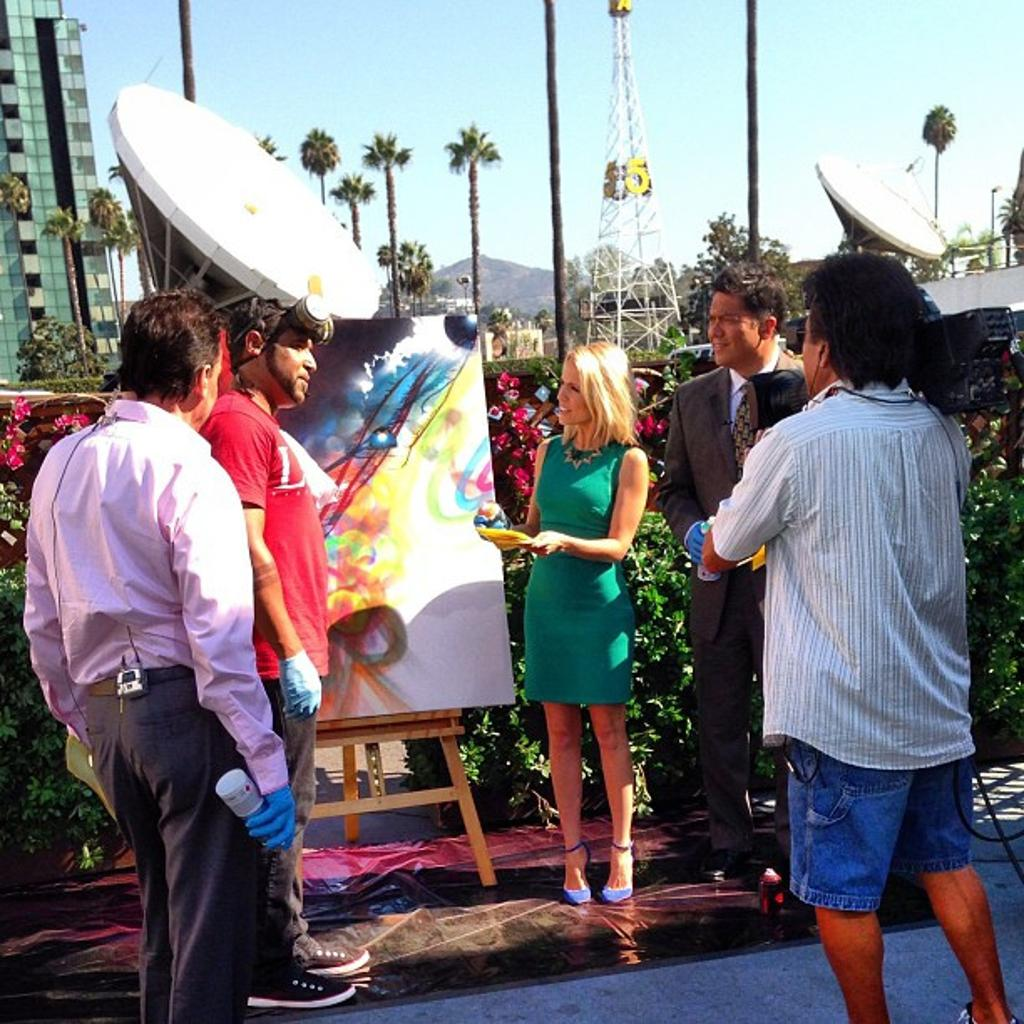face: (263, 320, 316, 404), (707, 292, 755, 364), (802, 305, 831, 395), (193, 339, 221, 422), (557, 367, 590, 425)
